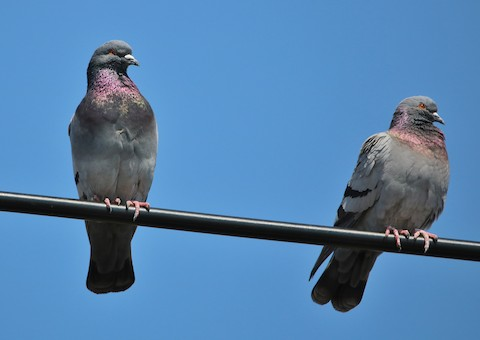pigeon: (301, 86, 455, 320), (59, 36, 160, 297)
